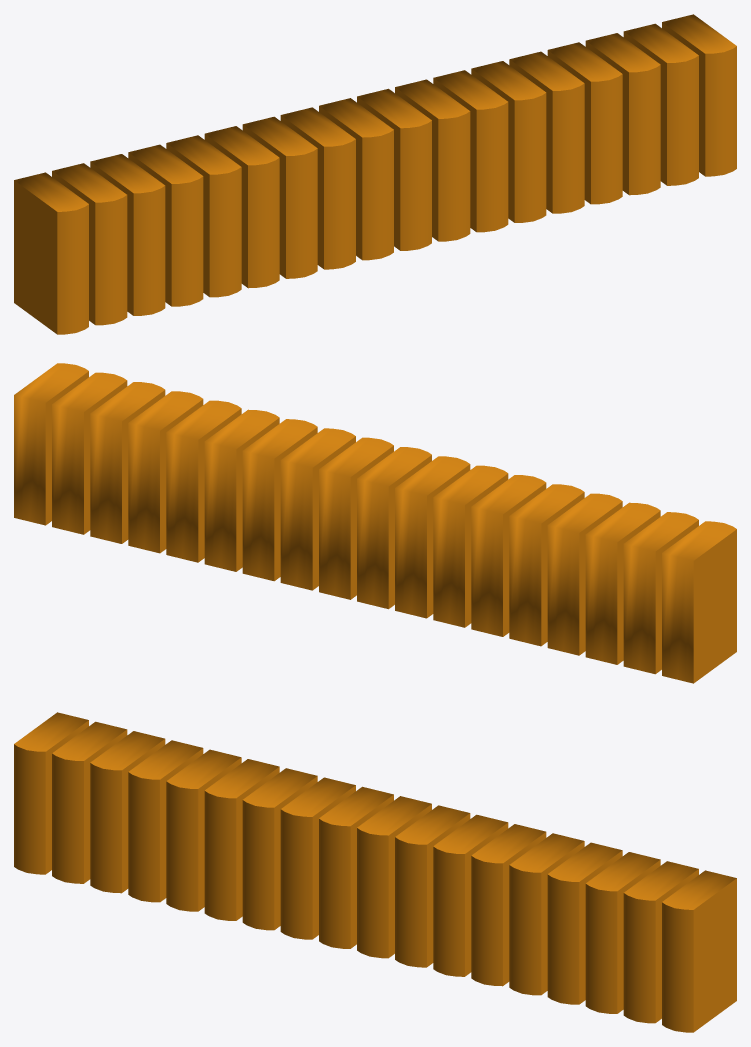
Rendered from Book-Row02.fbx.
The picture shows the model from 3 angles, top to bottom: view 1: azimuth 30°, elevation 25°; view 2: azimuth 150°, elevation 25°; view 3: azimuth 330°, elevation 25°; orthographic projection.
Visible parts, largest first — view 1: Book-Row-02_low.001; view 2: Book-Row-02_low.001; view 3: Book-Row-02_low.001.
Boxes of the visible parts, x1,y1,x2,y2 form: Book-Row-02_low.001: (14, 14, 736, 334); Book-Row-02_low.001: (14, 363, 736, 683); Book-Row-02_low.001: (14, 712, 736, 1032).
Bounding box in the file's own units: 187 × 22.15 × 32.32.
